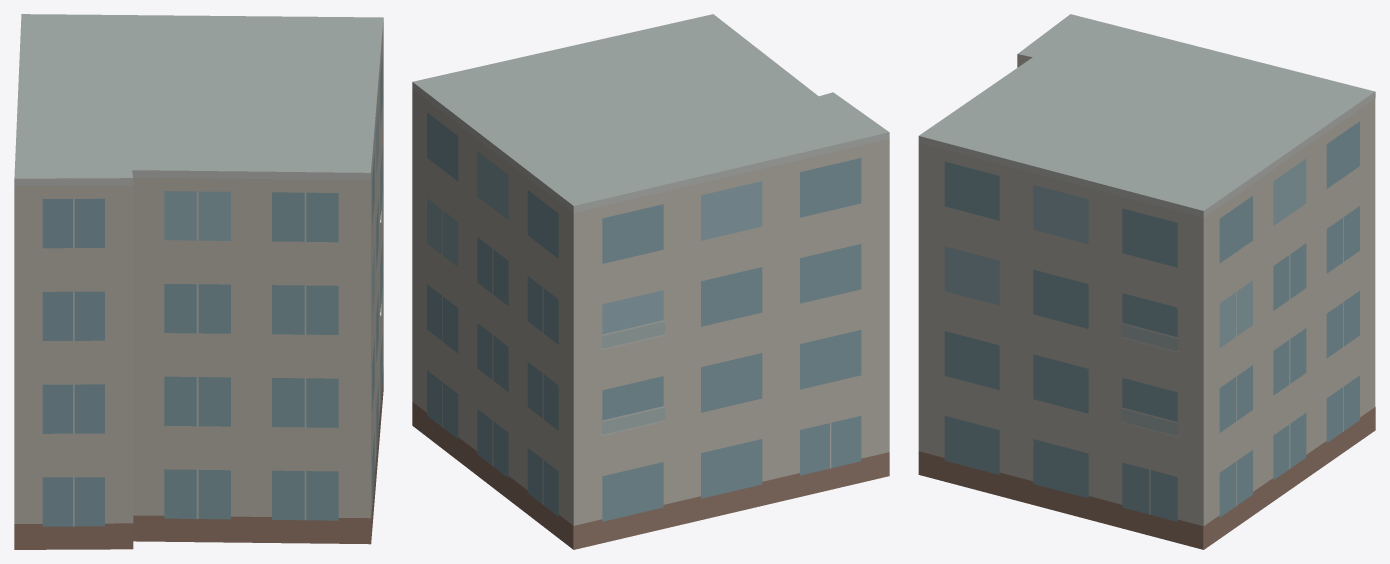
File: survey-upis-32666060.glb
The picture shows the model from 3 angles, left to right: view 1: azimuth 30°, elevation 25°; view 2: azimuth 150°, elevation 25°; view 3: azimuth 270°, elevation 25°; orthographic projection. The views are drawn at different scales.
Visible parts, largest first — view 1: survey-upis-32666060.tmp; view 2: survey-upis-32666060.tmp; view 3: survey-upis-32666060.tmp.
Part boxes in pixels (left/top/right/bottom): survey-upis-32666060.tmp: left=14, top=14, right=383, bottom=549; survey-upis-32666060.tmp: left=412, top=14, right=889, bottom=549; survey-upis-32666060.tmp: left=918, top=14, right=1375, bottom=549.
Size of the model in its own units: 15.22 by 12.2 by 14.91.
